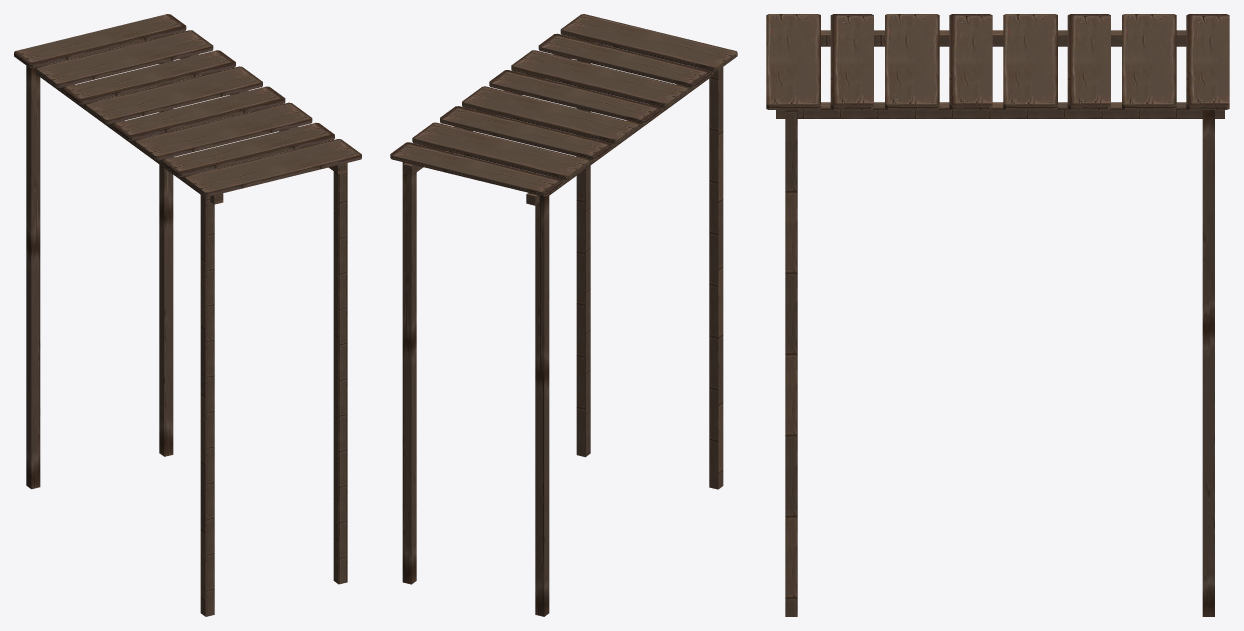
File: plank.fbx
3 renders of one model, left to right at view 1: azimuth 30°, elevation 25°; view 2: azimuth 150°, elevation 25°; view 3: azimuth 270°, elevation 25°, orthographic. The views are drawn at different scales.
Visible parts, largest first — view 1: 立方体.015; view 2: 立方体.015; view 3: 立方体.015.
Part boxes in pixels (x1=…): 立方体.015: x1=14, y1=14, x2=361, y2=616; 立方体.015: x1=390, y1=14, x2=737, y2=616; 立方体.015: x1=766, y1=14, x2=1229, y2=616.
Size of the model in its own units: 1534 by 4034 by 3284.
